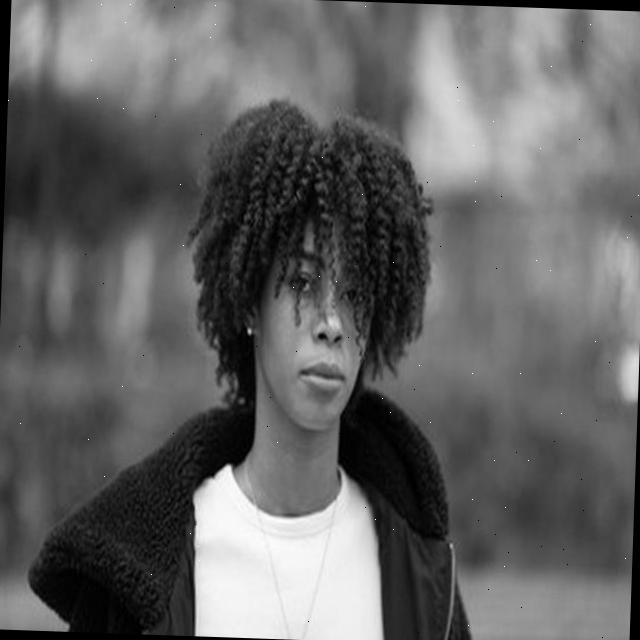Neutral: (256, 211, 374, 431)
